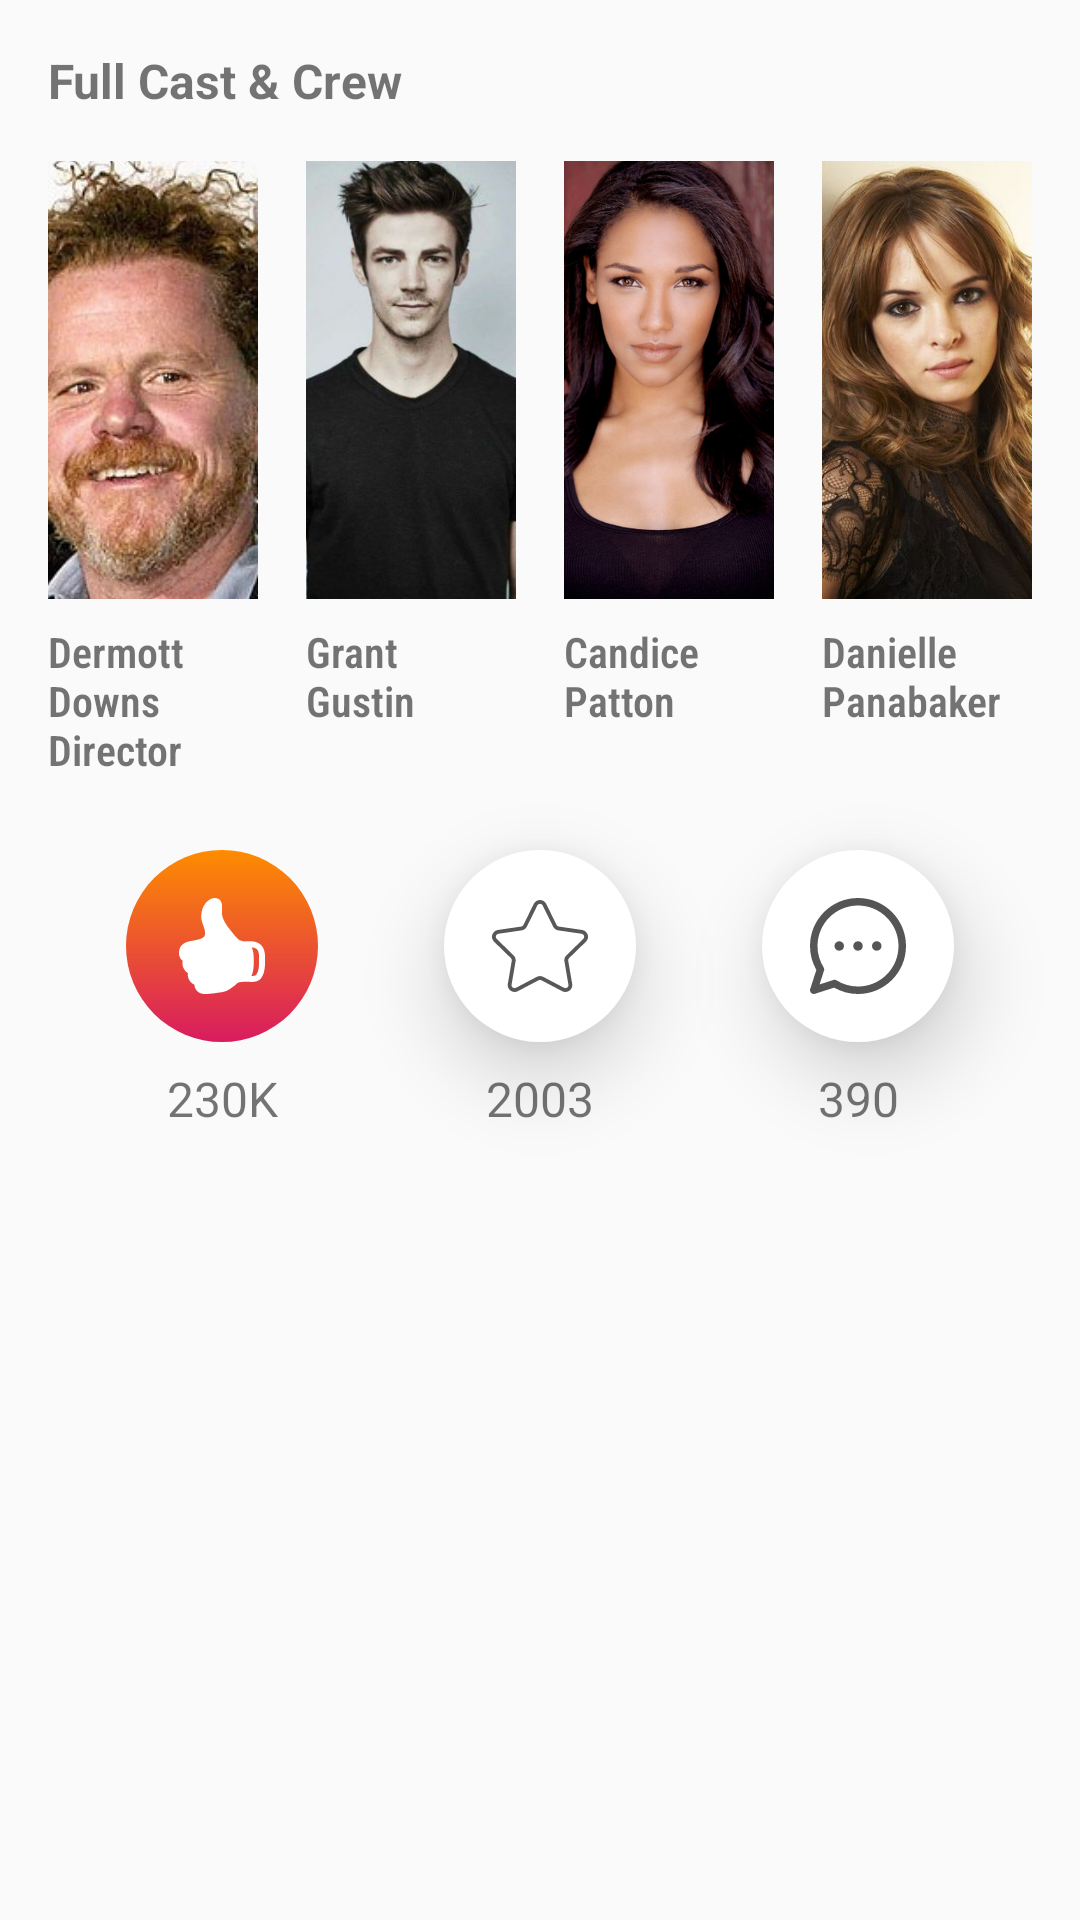

Icon click points for this 1080px x 1920px phone screenshot, format (x=x, y=y):
conversation: (x=858, y=946)
like: (x=222, y=946)
star: (x=540, y=946)
